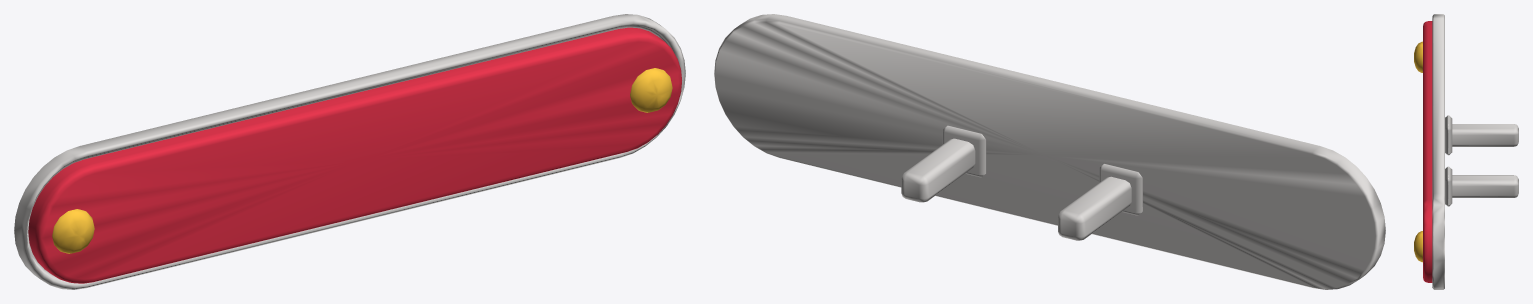
The model's file is Hub_Banner.fbx.
The picture shows the model from 3 angles, left to right: view 1: azimuth 30°, elevation 25°; view 2: azimuth 150°, elevation 25°; view 3: azimuth 270°, elevation 25°; orthographic projection. The views are drawn at different scales.
Visible parts, largest first — view 1: Banner_Body, Banner_Trim, Banner_Bolts; view 2: Banner_Trim; view 3: Banner_Trim, Banner_Body, Banner_Bolts.
Boxes of the visible parts, x1,y1,x2,y2 form: Banner_Body: (28,27,681,283); Banner_Trim: (14,14,685,289); Banner_Bolts: (52,68,672,253); Banner_Trim: (714,14,1385,289); Banner_Trim: (1432,14,1518,289); Banner_Body: (1423,21,1432,282); Banner_Bolts: (1414,41,1422,262).
Bounding box in the file's own units: 46.7 × 9.2 × 9.52.
